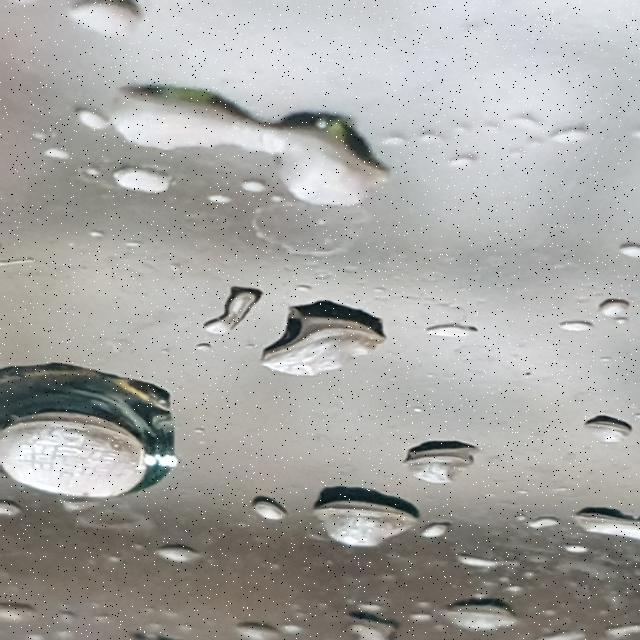raindrop: (118, 73, 376, 208), (0, 357, 176, 503), (266, 295, 382, 393), (296, 475, 418, 559), (387, 427, 525, 497), (194, 276, 283, 348), (557, 486, 640, 548), (105, 154, 194, 206), (565, 404, 640, 461), (66, 0, 150, 47), (432, 594, 524, 636), (412, 310, 484, 357), (326, 597, 402, 640), (142, 542, 226, 580), (225, 603, 301, 640), (541, 300, 596, 348), (226, 499, 291, 537), (545, 118, 599, 154), (448, 548, 507, 578), (412, 516, 464, 550), (0, 599, 63, 627), (77, 91, 109, 136), (597, 284, 636, 316), (604, 233, 640, 263)
